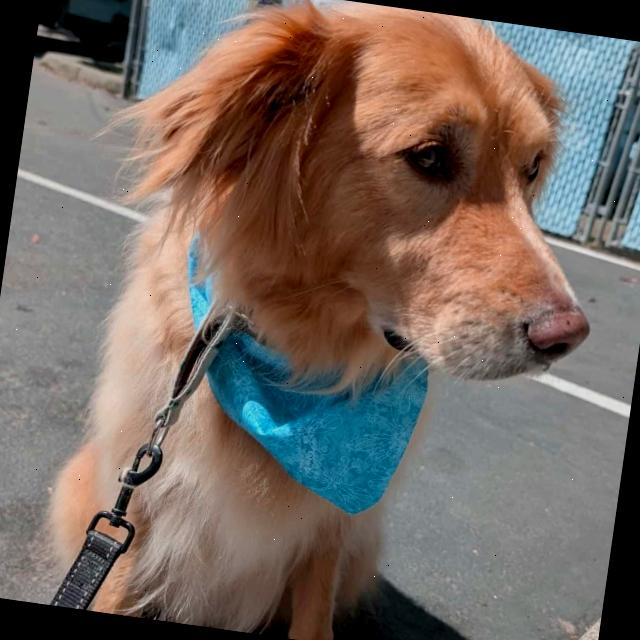golden_retriever_dog: (61, 0, 640, 428)
